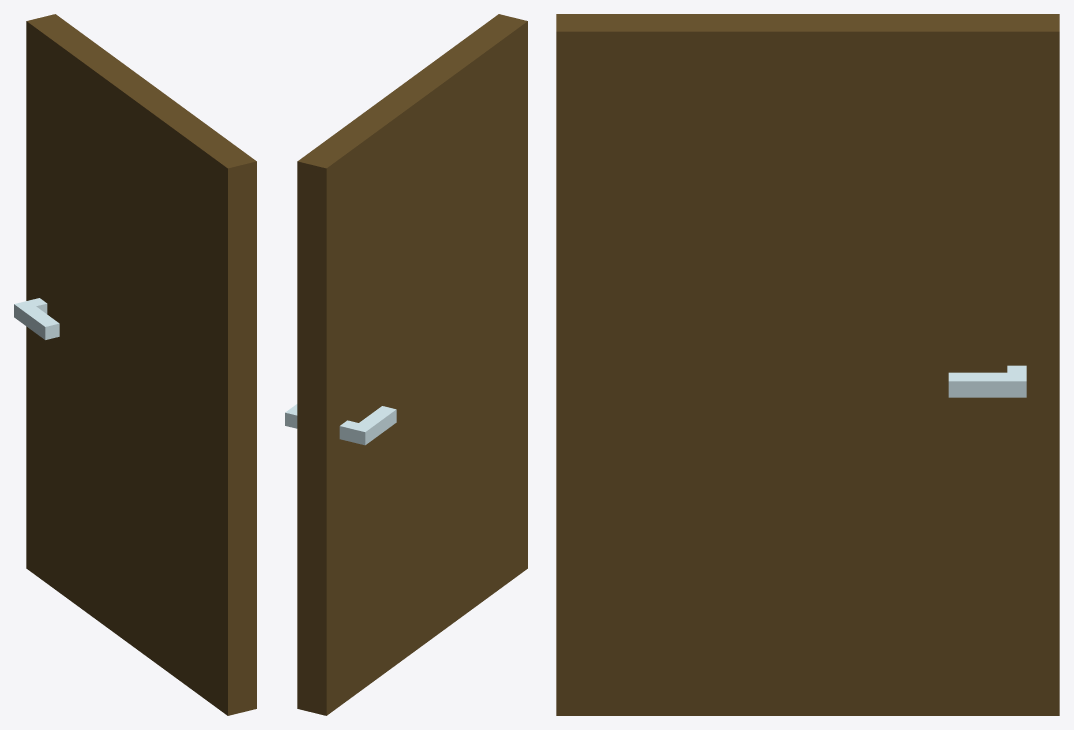
Rendered from office_door.fbx.
The picture shows the model from 3 angles, left to right: view 1: azimuth 30°, elevation 25°; view 2: azimuth 150°, elevation 25°; view 3: azimuth 270°, elevation 25°; orthographic projection. The views are drawn at different scales.
Parts seen in each view (by area): view 1: Cube.020, Cube.021; view 2: Cube.020, Cube.021; view 3: Cube.020, Cube.021.
Boxes of the visible parts, <box> form: Cube.020: <box>26,14,256,715</box>; Cube.021: <box>14,298,59,339</box>; Cube.020: <box>297,14,527,715</box>; Cube.021: <box>285,404,396,445</box>; Cube.020: <box>556,14,1059,715</box>; Cube.021: <box>948,365,1026,397</box>.
Bounding box in the file's own units: 34.51 × 225 × 150.
